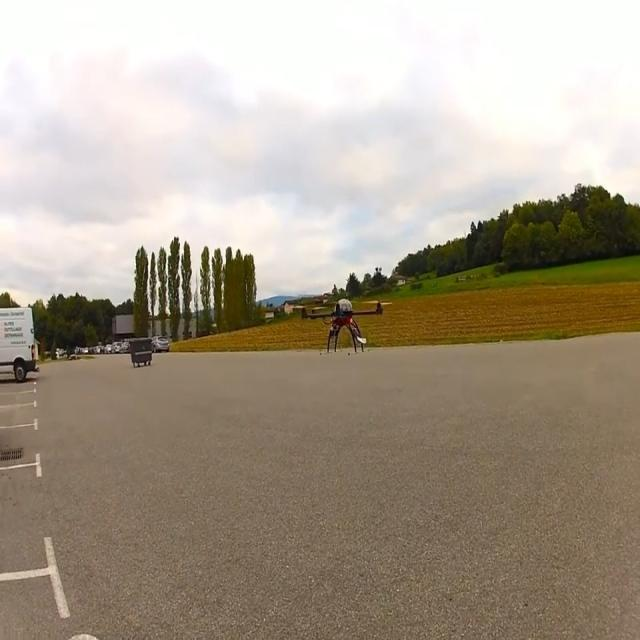drone: (292, 296, 392, 354)
